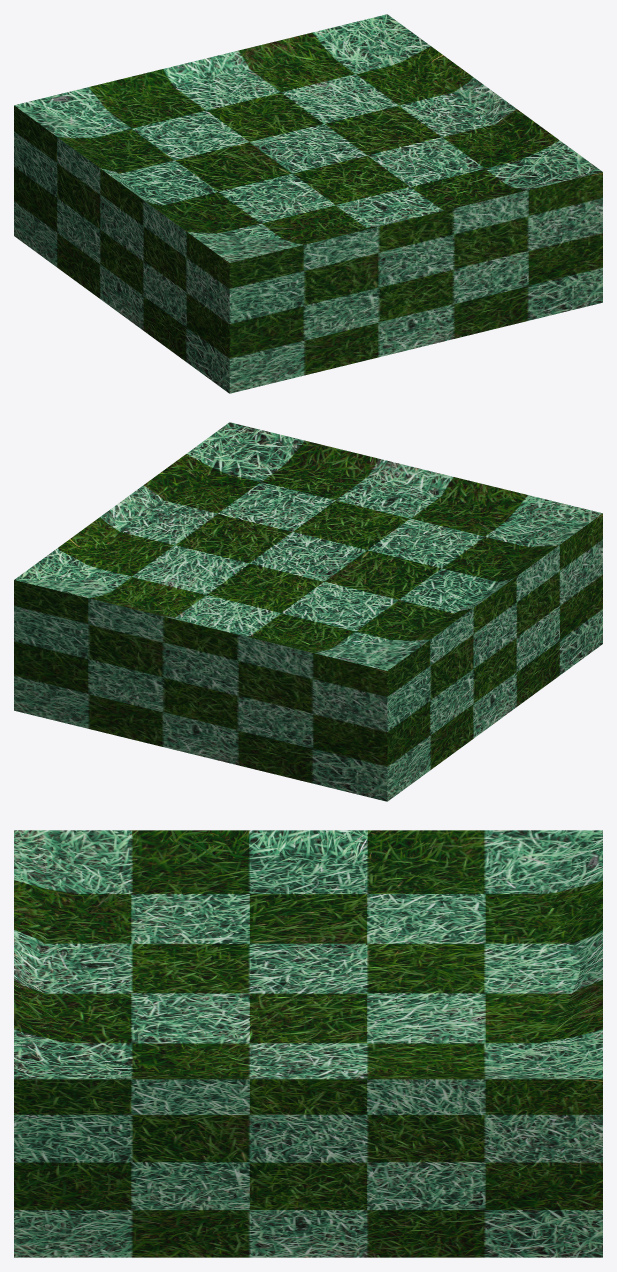
The model's file is Floor7EdgeCircle.fbx.
3 renders of one model, top to bottom at view 1: azimuth 30°, elevation 25°; view 2: azimuth 150°, elevation 25°; view 3: azimuth 270°, elevation 25°, orthographic. The views are drawn at different scales.
Parts seen in each view (by area): view 1: Floor.007EdgeCircle; view 2: Floor.007EdgeCircle; view 3: Floor.007EdgeCircle.
Boxes of the visible parts, x1,y1,x2,y2 form: Floor.007EdgeCircle: (14,14,602,393); Floor.007EdgeCircle: (14,422,602,801); Floor.007EdgeCircle: (14,830,602,1257).
Bounding box in the file's own units: 150 × 50.16 × 150.
